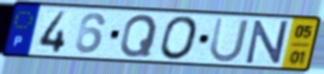4: (36, 9, 68, 55)
6: (74, 12, 108, 55)
N: (244, 19, 291, 65)
O: (158, 14, 201, 62)
Q: (118, 13, 160, 59)
U: (207, 16, 252, 64)
